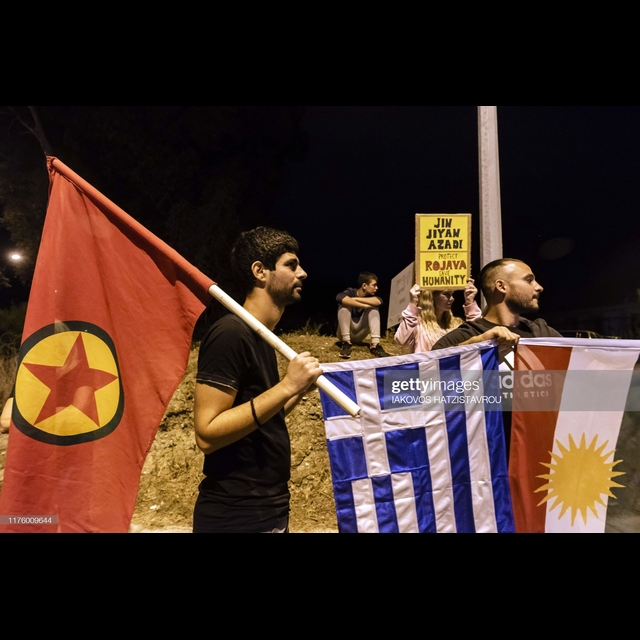IBKY: (523, 353, 631, 532)
PKK: (7, 312, 134, 453)
